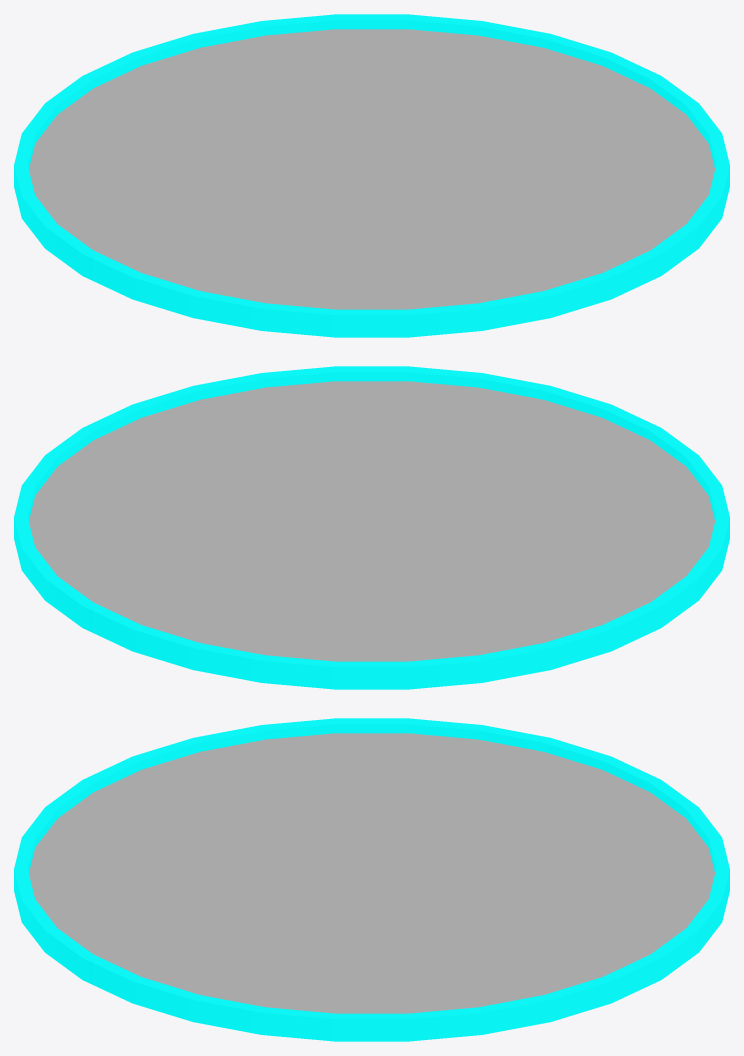
File: SFI0510008.fbx
3 views of the same model, one above another, from view 1: azimuth 30°, elevation 25°; view 2: azimuth 150°, elevation 25°; view 3: azimuth 270°, elevation 25° (orthographic).
Visible parts, largest first — view 1: smSFI0510008; view 2: smSFI0510008; view 3: smSFI0510008.
Part boxes in pixels (left/top/right/bottom): smSFI0510008: left=14, top=14, right=729, bottom=337; smSFI0510008: left=14, top=366, right=729, bottom=689; smSFI0510008: left=14, top=718, right=729, bottom=1041.
Size of the model in its own units: 199 by 6.83 by 200.
